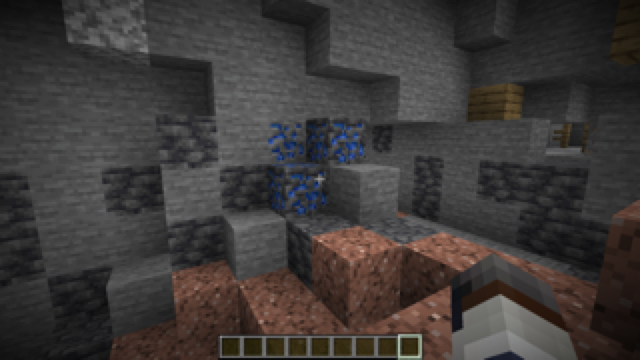lapis: (265, 119, 368, 216)
